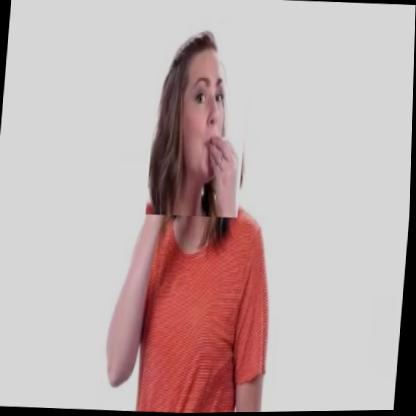Food: (146, 23, 253, 219)
